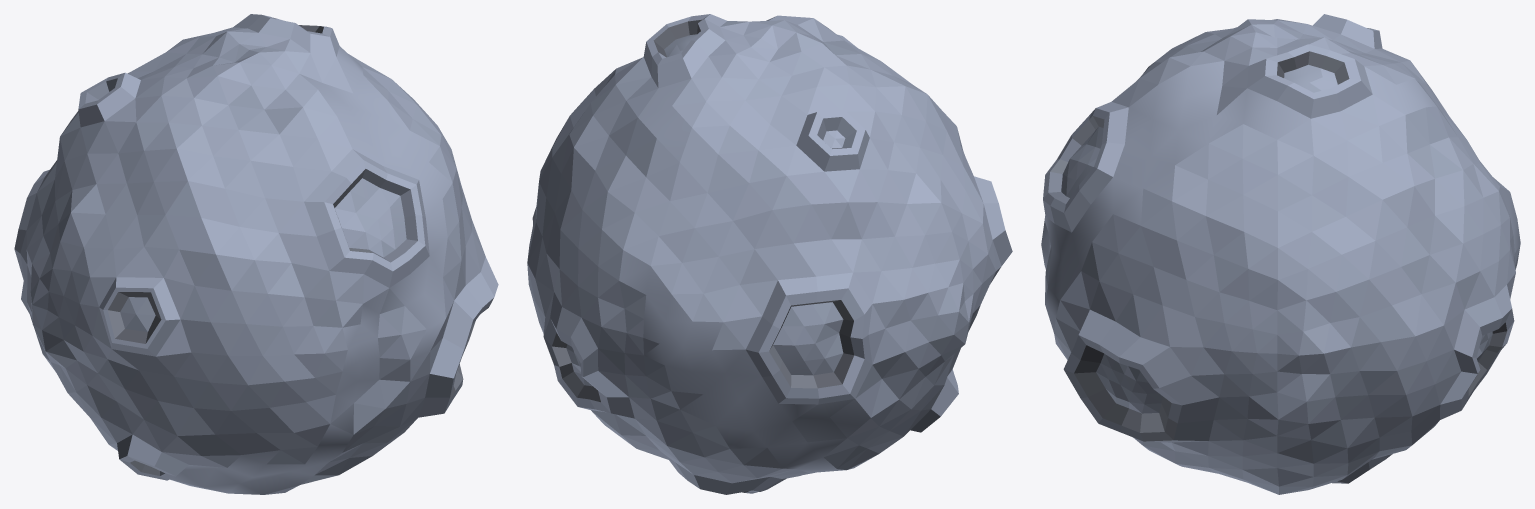
The model's file is moon.obj.
3 renders of one model, left to right at view 1: azimuth 30°, elevation 25°; view 2: azimuth 150°, elevation 25°; view 3: azimuth 270°, elevation 25°, orthographic. The views are drawn at different scales.
Parts seen in each view (by area): view 1: Moon_lambert1_0_0, Moon_Light_grey_middle_part_0_0, Moon_Shadow_Dark_0_0, Moon_Medium_Dark_0_0, Moon_Shadow_Darkest_0_0; view 2: Moon_lambert1_0_0, Moon_Light_grey_middle_part_0_0, Moon_Shadow_Dark_0_0, Moon_Main_colour_0_0, Moon_Shadow_Darkest_0_0, Moon_lambert5_0_0, Moon_Medium_Dark_0_0; view 3: Moon_lambert1_0_0, Moon_Light_grey_middle_part_0_0, Moon_Shadow_Darkest_0_0, Moon_Medium_Dark_0_0, Moon_Shadow_Dark_0_0.
Part boxes in pixels (x1,y1,x2,y2): Moon_lambert1_0_0: (14, 14, 498, 494); Moon_Light_grey_middle_part_0_0: (32, 85, 463, 475); Moon_Shadow_Dark_0_0: (85, 78, 417, 475); Moon_Medium_Dark_0_0: (108, 18, 487, 475); Moon_Shadow_Darkest_0_0: (115, 25, 488, 400); Moon_lambert1_0_0: (527, 14, 1012, 494); Moon_Light_grey_middle_part_0_0: (527, 18, 980, 494); Moon_Shadow_Dark_0_0: (745, 117, 958, 491); Moon_Main_colour_0_0: (781, 300, 854, 388); Moon_Shadow_Darkest_0_0: (562, 19, 701, 402); Moon_lambert5_0_0: (769, 327, 817, 388); Moon_Medium_Dark_0_0: (552, 333, 748, 492); Moon_lambert1_0_0: (1041, 14, 1520, 494); Moon_Light_grey_middle_part_0_0: (1046, 40, 1513, 459); Moon_Shadow_Darkest_0_0: (1074, 51, 1506, 425); Moon_Medium_Dark_0_0: (1050, 51, 1349, 441); Moon_Shadow_Dark_0_0: (1048, 28, 1370, 483).
Size of the model in its own units: 19.82 by 20.34 by 19.52.
Materials: 7 (7 with a texture image).
